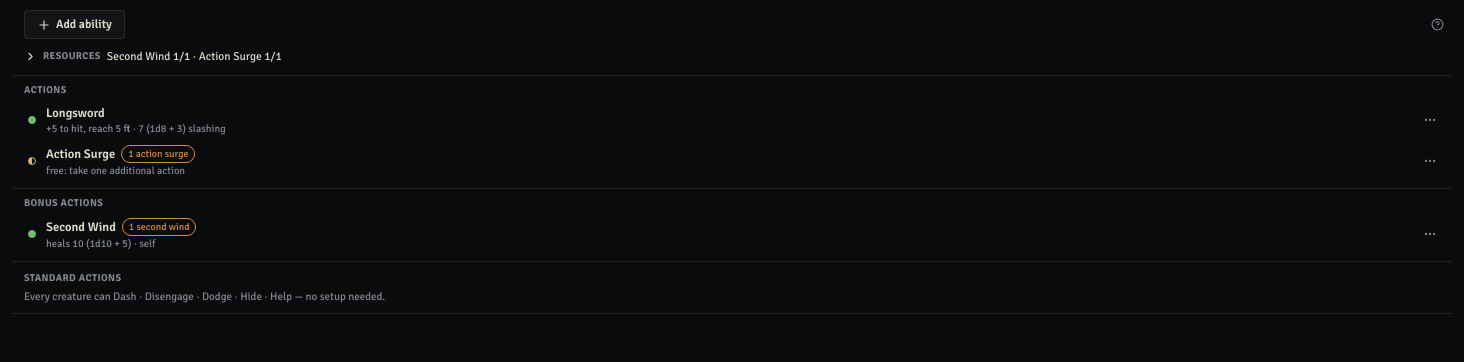
the ability editor's shell › opens in place of the list, with the ability as a statblock
What coordinates should you click on to do the following:
click the button with aria-label "Edit Longsword"
I would click on:
 (75, 113)
Its box is [42,100,1410,140].
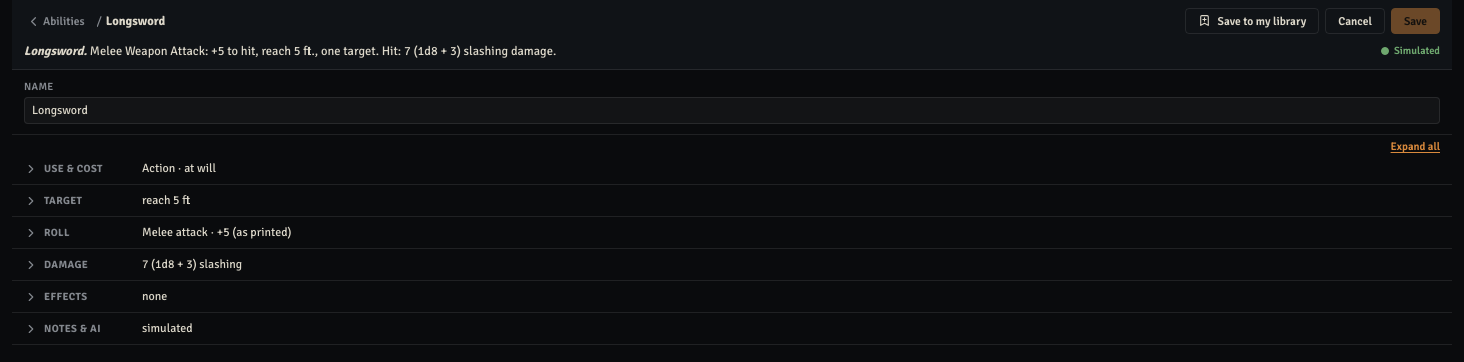
Result: the element named "Edit Longsword" is shown
Result: the heading "Actions" is gone
Result: the element named "Preview" shows "Longsword. Melee Weapon Attack: +5 to hit, reach 5 ft., one target." at [24,43,1440,59]
